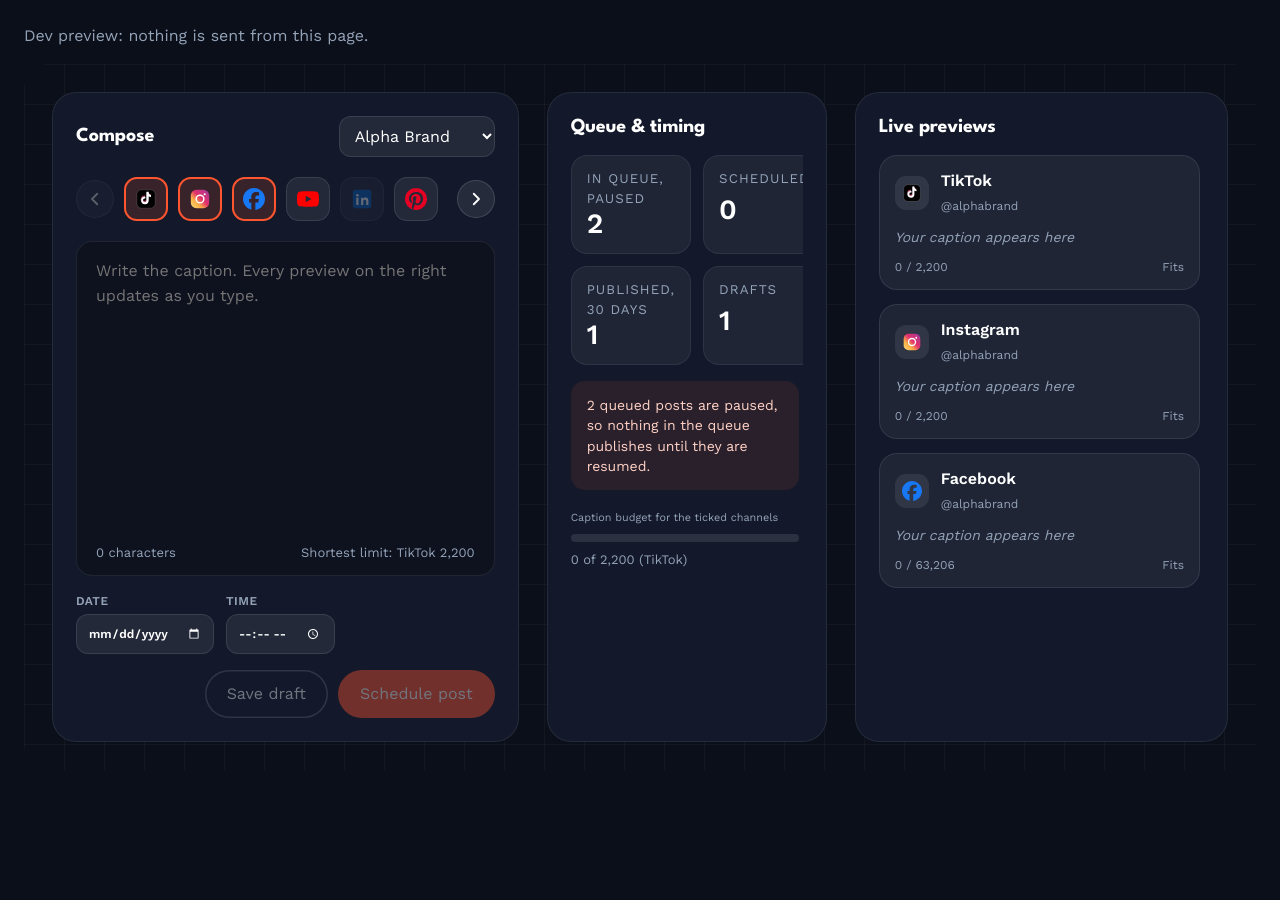
PostingWorkspacePreview (dev only) › uses made-up brands and only reports what a press would do
Expected: the dropdown named "brand" shows "Alpha Brand", left=339, top=116, right=495, bottom=157
Replace the text in the text box labelled "caption" with "hello" at (285, 388), box left=76, top=241, right=495, bottom=534
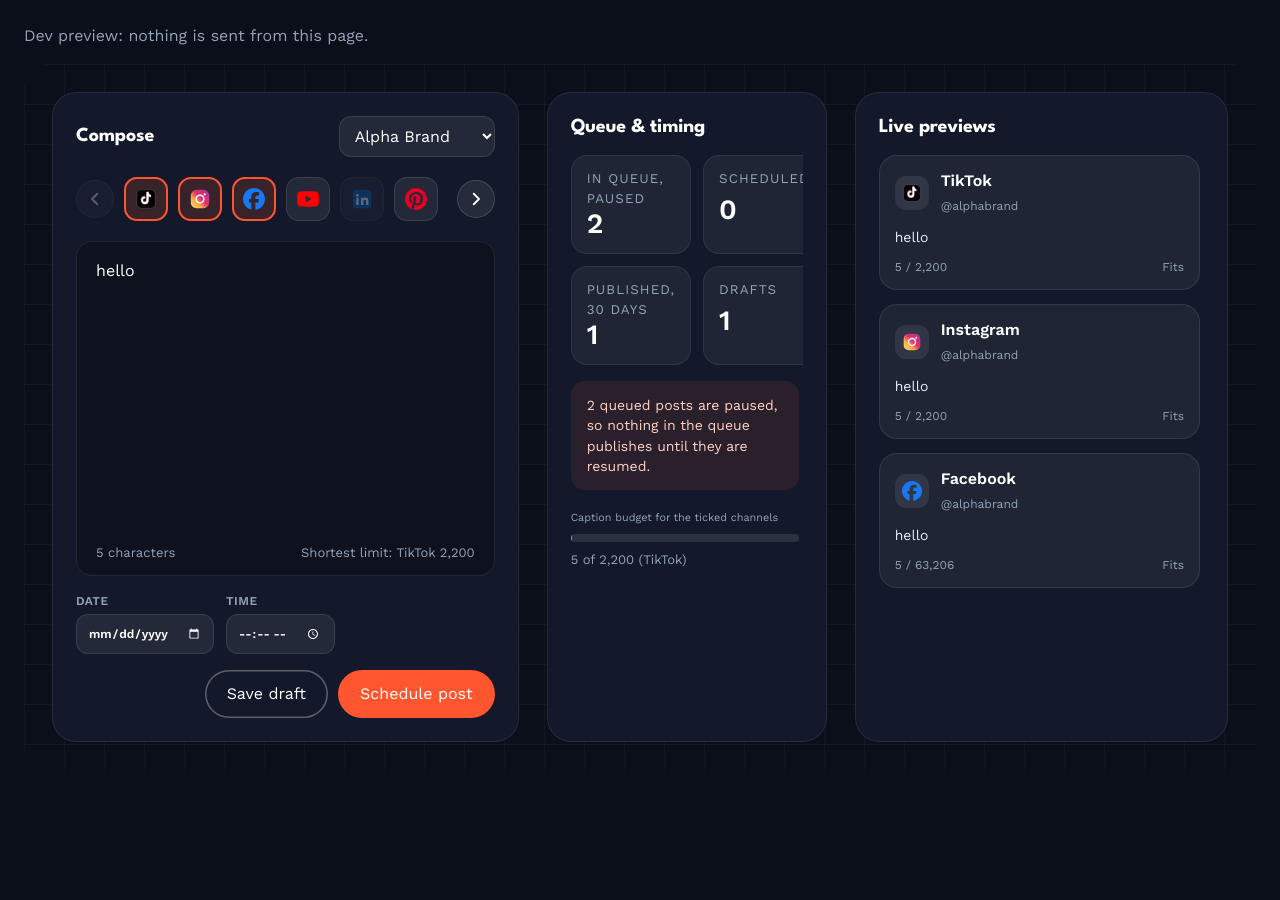
Click the button "Save draft" at (266, 694), box left=205, top=670, right=328, bottom=718
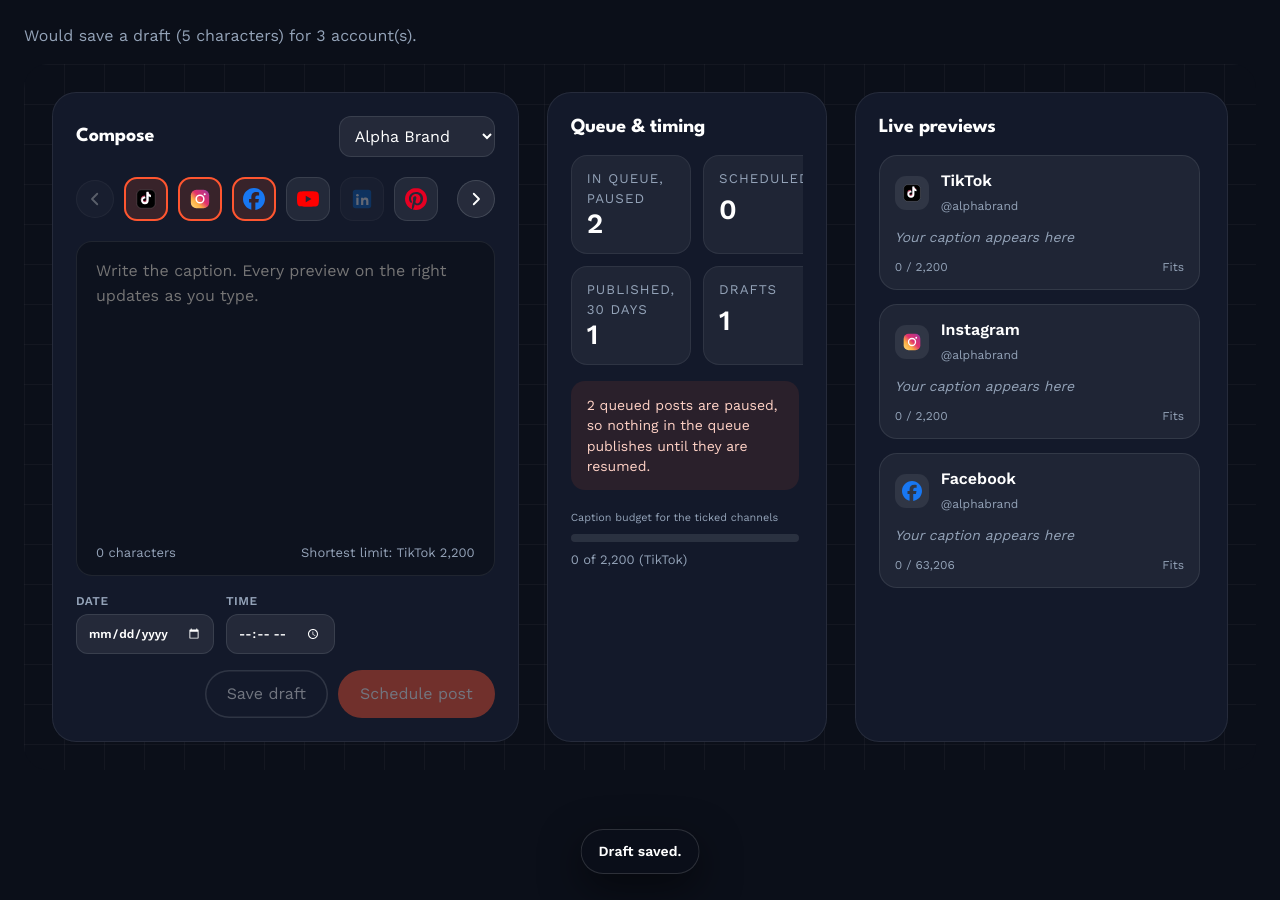
Expected: the text "Would save a draft (5 characters) for 3 account(s)." is shown, left=24, top=26, right=416, bottom=45
